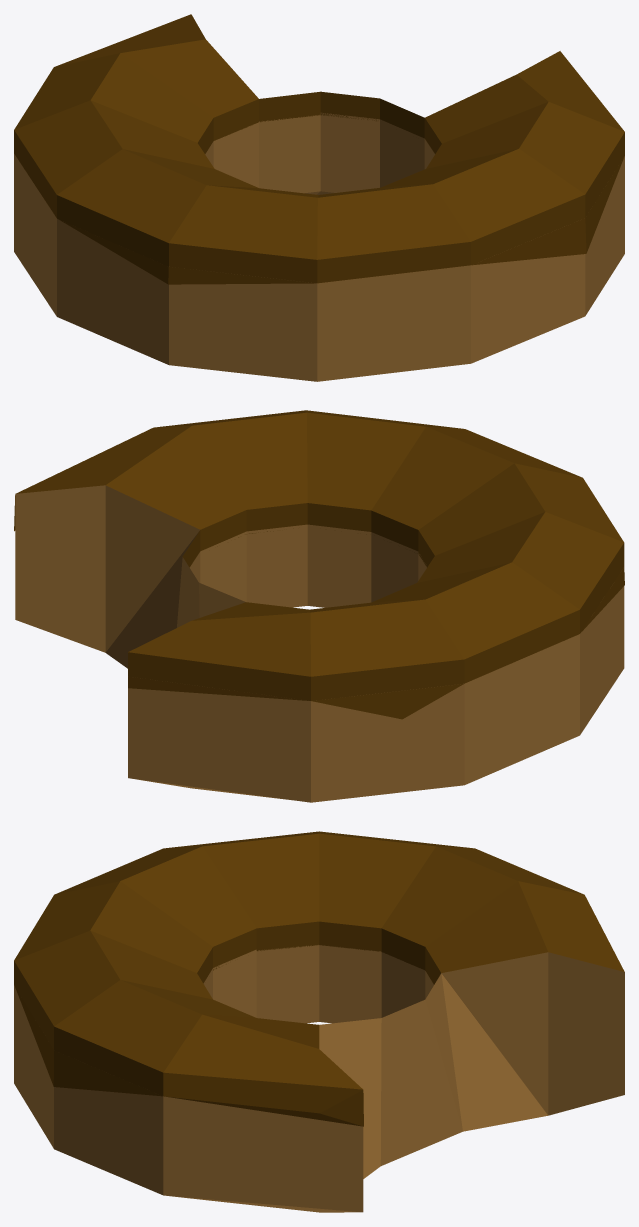
File: Пончик (надкушенный).fbx
3 views of the same model, one above another, from view 1: azimuth 30°, elevation 25°; view 2: azimuth 150°, elevation 25°; view 3: azimuth 270°, elevation 25° (orthographic). The views are drawn at different scales.
Parts seen in each view (by area): view 1: Куб; view 2: Куб; view 3: Куб.
Boxes of the visible parts, x1,y1,x2,y2 form: Куб: (14,14,624,381); Куб: (14,410,624,802); Куб: (14,831,624,1212).
Bounding box in the file's own units: 190 × 63.37 × 189.
